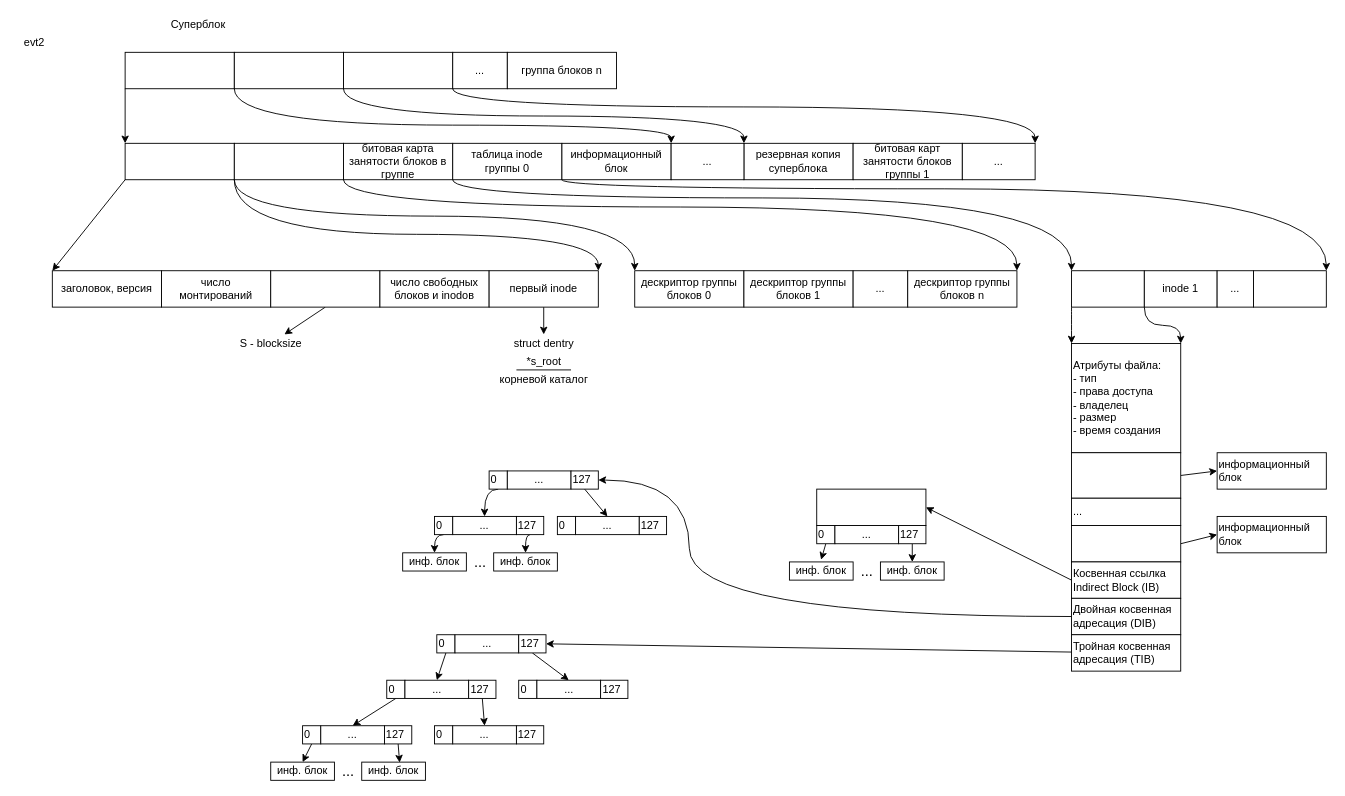
Some shapes in this 1345 by 796 pixel diagram are drawn without their labels. The shapes that lost their labels are listed below. From the top down, each one's centre as x and y in pixels, then its label:
At point (179, 70): "группа блоков 0".
At point (288, 70): "группа блоков 1".
At point (398, 70): "группа блоков 2".
At point (179, 161): "супер блок".
At point (288, 161): "таблица дескрипторов группы".
At point (325, 288): "размер блока".
At point (1107, 288): "inode 0".
At point (1289, 288): "inode x".
At point (1126, 475): "Адрес блока 0, прямой".
At point (871, 507): "блок содержит адреса инф. блок".
At point (1126, 543): "Адрес блока 11, прямой".
